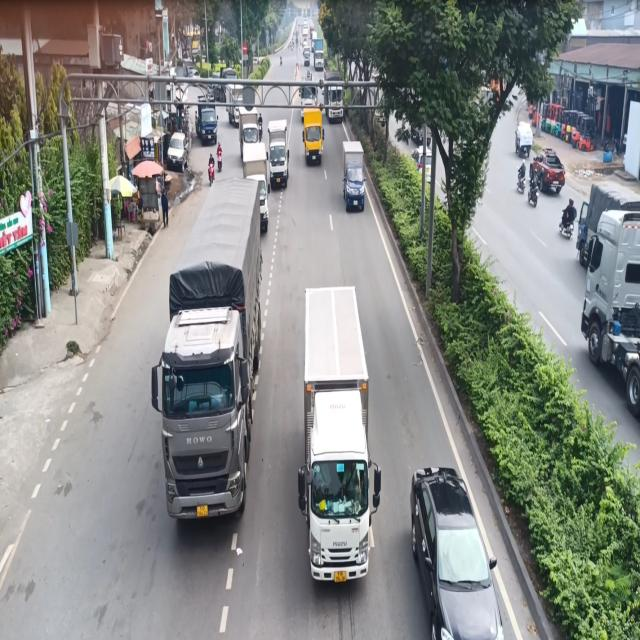truck: (154, 173, 267, 557), (299, 275, 384, 611), (336, 131, 372, 220), (266, 112, 294, 196), (299, 102, 328, 176)
